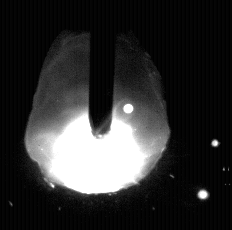arame: (89, 0, 114, 137)
poca: (24, 0, 169, 230)
